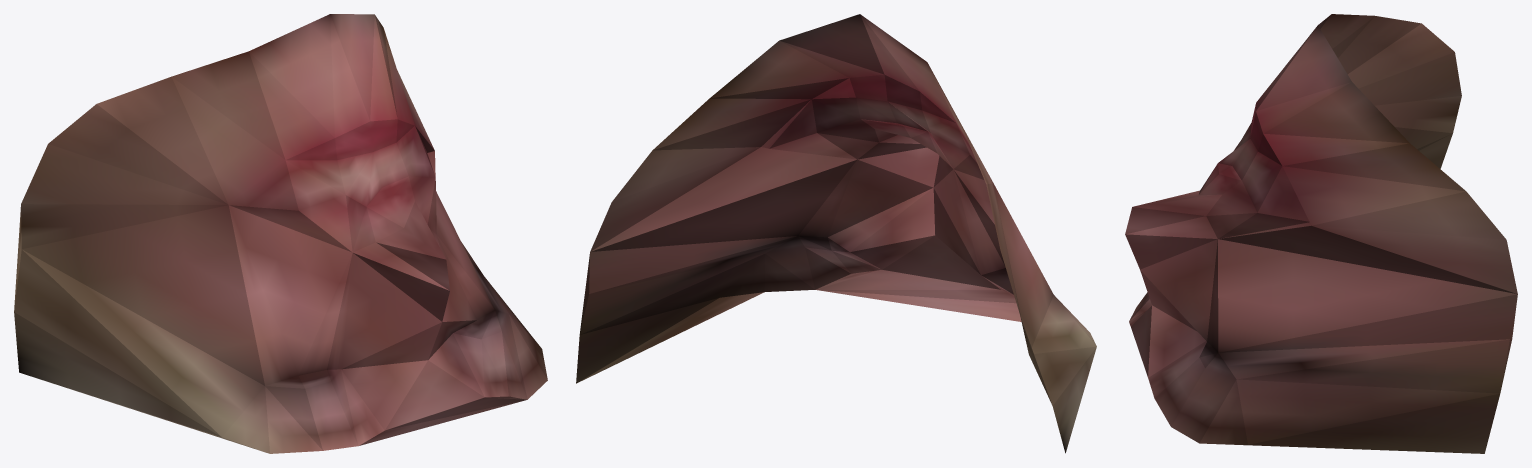
The model's file is fake_9759.obj.
The picture shows the model from 3 angles, left to right: view 1: azimuth 30°, elevation 25°; view 2: azimuth 150°, elevation 25°; view 3: azimuth 270°, elevation 25°; orthographic projection. The views are drawn at different scales.
Size of the model in its own units: 116 by 88 by 90.77.
